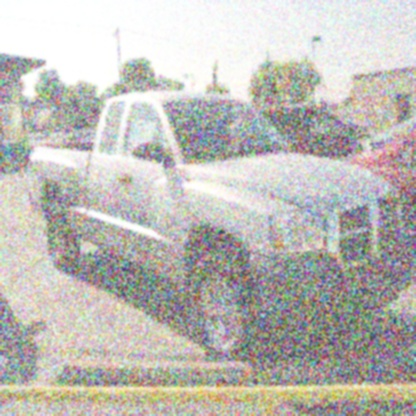Vehicle: (29, 91, 408, 362)
